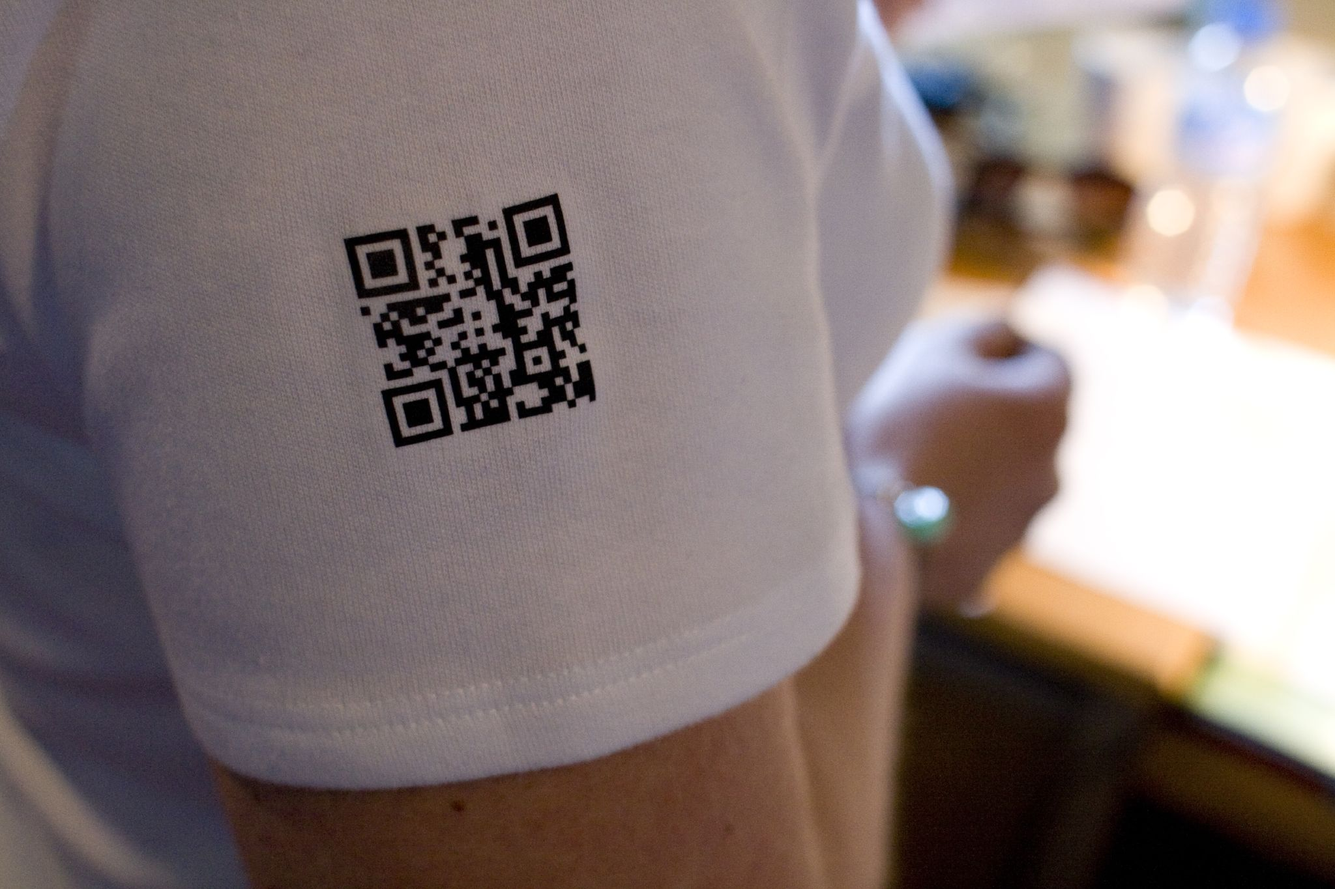QR-CODE: (344, 193, 599, 447)
